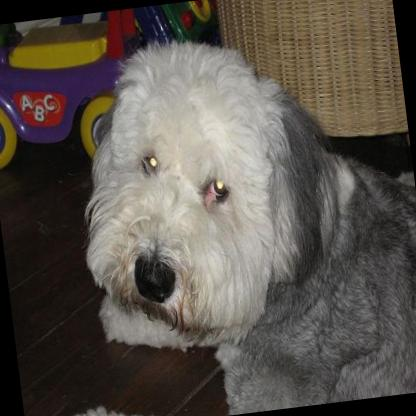Old_English_sheepdog: (58, 8, 416, 416)
